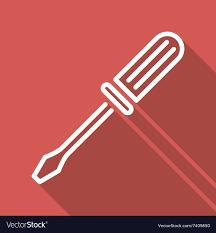screwdriver: (30, 31, 183, 184)
